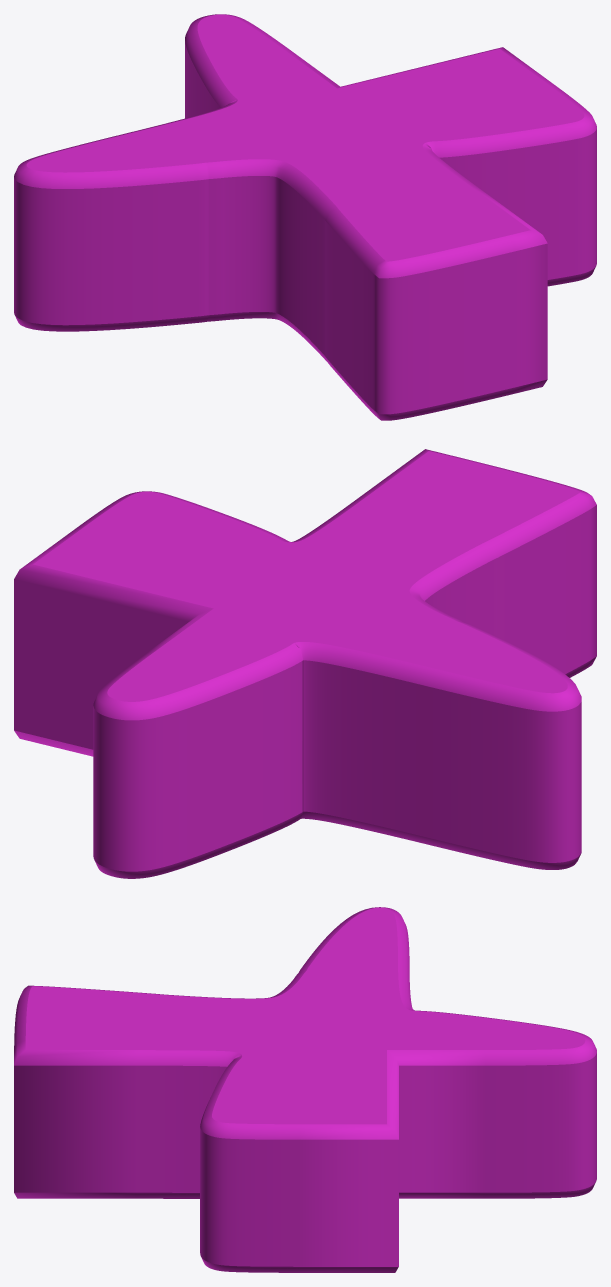
File: PlusSign.fbx
3 views of the same model, one above another, from view 1: azimuth 30°, elevation 25°; view 2: azimuth 150°, elevation 25°; view 3: azimuth 270°, elevation 25° (orthographic). The views are drawn at different scales.
Parts seen in each view (by area): view 1: PlusSign; view 2: PlusSign; view 3: PlusSign.
Part boxes in pixels (x1,y1,x2,y2): PlusSign: (14,14,596,420); PlusSign: (14,449,596,878); PlusSign: (14,907,596,1272).
Bounding box in the file's own units: 0.4589 × 0.14 × 0.499.
